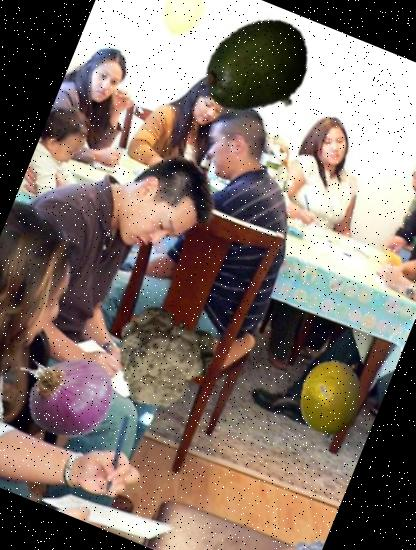Avocado: (184, 0, 330, 142)
Cauliflower: (99, 286, 233, 420)
Maracuja: (280, 348, 382, 450)
Onion: (0, 326, 128, 461)
